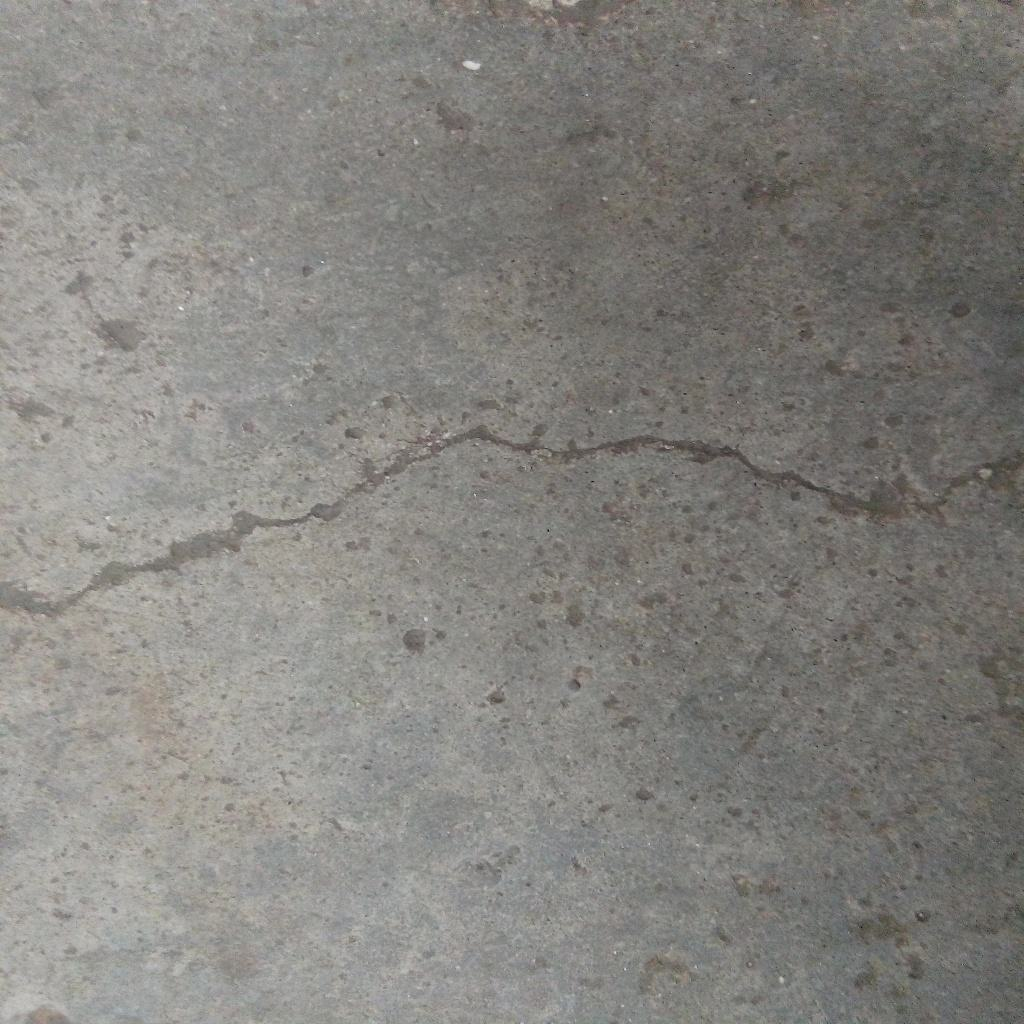Crack: (1, 419, 1024, 622)
